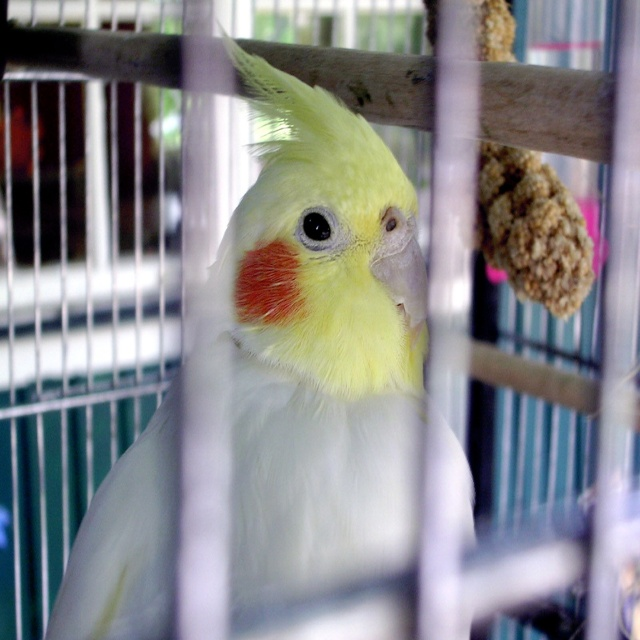Parrot: (44, 17, 476, 640)
